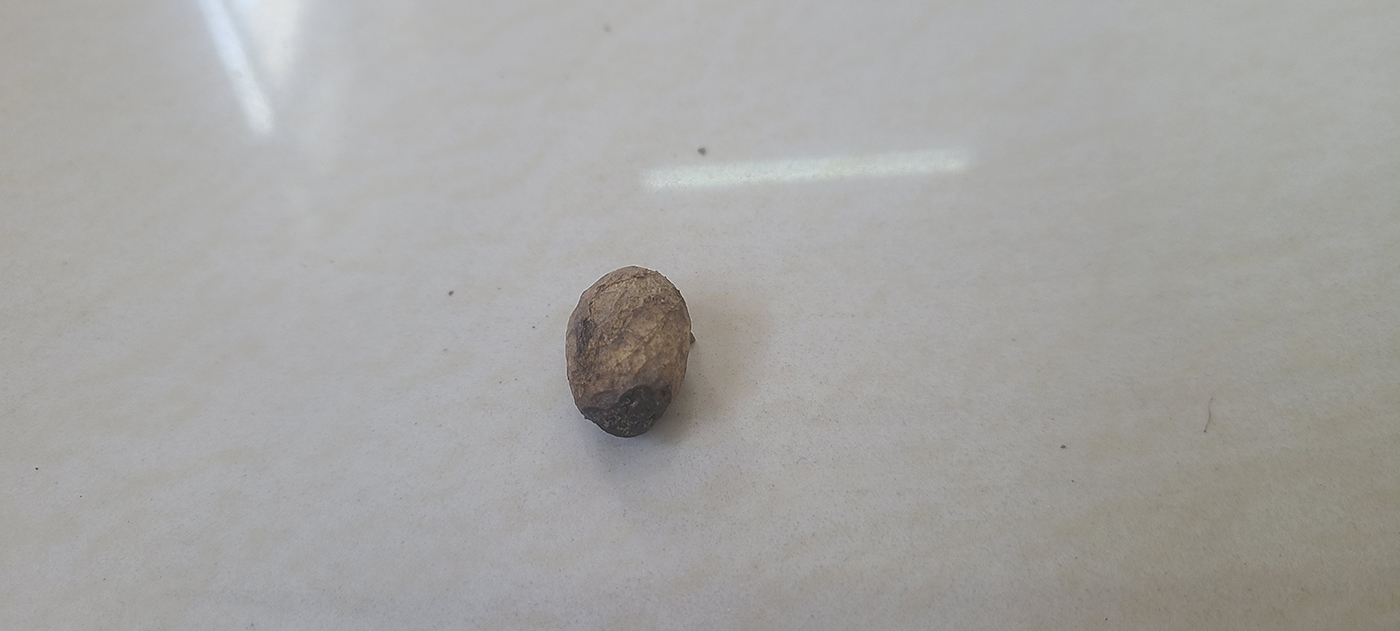l: (561, 264, 693, 432)
